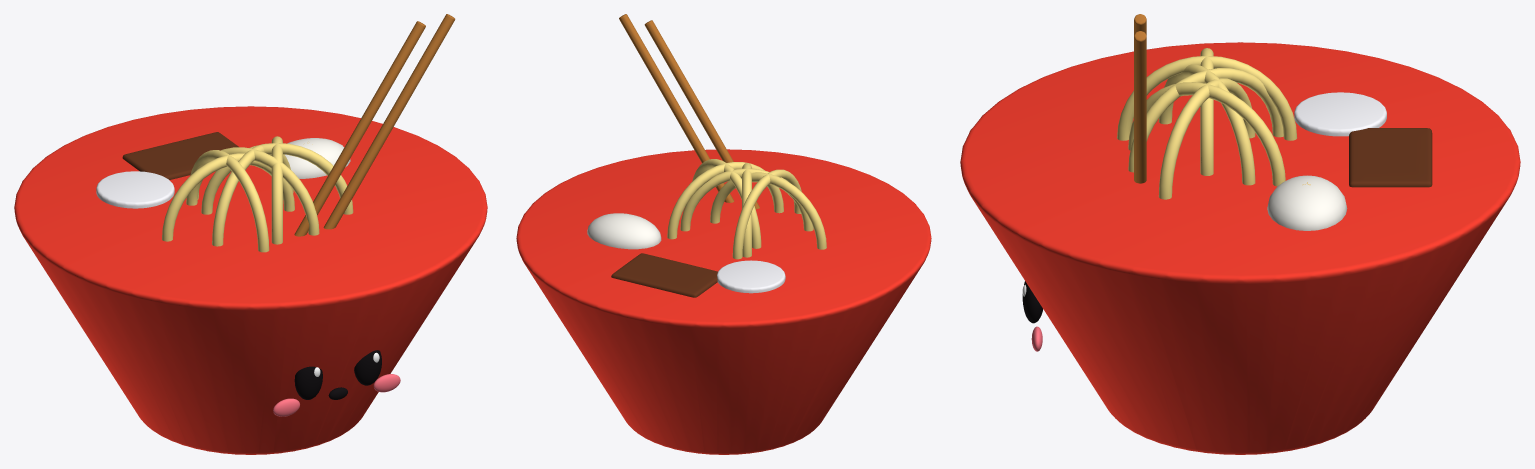
File: Ramen.glb
3 views of the same model, side by side, from view 1: azimuth 30°, elevation 25°; view 2: azimuth 150°, elevation 25°; view 3: azimuth 270°, elevation 25° (orthographic). The views are drawn at different scales.
Parts seen in each view (by area): view 1: Cone, Cylinder.003, Cube, Cylinder.002, Cylinder.001, Torus, Torus.005, Torus.004, Torus.003, Sphere, Torus.001, Torus.002 (+2 smaller); view 2: Cone, Cube, Sphere, Cylinder.001, Cylinder.003, Cylinder.002, Torus, Torus.002, Torus.003, Torus.001, Torus.005, Torus.004; view 3: Cone, Cube, Sphere, Cylinder.001, Torus.003, Torus.002, Torus.005, Torus.004, Cylinder.003, Torus.001, Torus.
Boxes of the visible parts, <box> form: Cone: <box>14,106,487,454</box>; Cylinder.003: <box>323,14,455,229</box>; Cube: <box>122,132,238,179</box>; Cylinder.002: <box>294,21,425,236</box>; Cylinder.001: <box>96,171,174,208</box>; Torus: <box>162,153,294,241</box>; Torus.005: <box>201,143,353,214</box>; Torus.004: <box>186,147,319,235</box>; Torus.003: <box>190,150,269,252</box>; Sphere: <box>285,138,350,178</box>; Torus.001: <box>212,144,293,246</box>; Torus.002: <box>271,136,282,244</box>; Cone: <box>516,149,931,454</box>; Cube: <box>611,253,717,297</box>; Sphere: <box>587,213,661,249</box>; Cylinder.001: <box>717,260,785,293</box>; Cylinder.003: <box>619,14,734,202</box>; Cylinder.002: <box>644,20,759,209</box>; Torus: <box>710,172,826,249</box>; Torus.002: <box>667,162,783,239</box>; Torus.003: <box>732,169,801,259</box>; Torus.001: <box>680,168,813,231</box>; Torus.005: <box>692,159,761,248</box>; Torus.004: <box>742,163,751,257</box>; Cone: <box>960,42,1520,454</box>; Cube: <box>1349,128,1432,187</box>; Sphere: <box>1267,175,1347,230</box>; Cylinder.001: <box>1294,92,1386,136</box>; Torus.003: <box>1117,56,1297,140</box>; Torus.002: <box>1128,82,1285,186</box>; Torus.005: <box>1158,78,1255,199</box>; Torus.004: <box>1128,68,1283,172</box>; Cylinder.003: <box>1134,31,1146,183</box>; Torus.001: <box>1158,64,1255,185</box>; Torus: <box>1200,48,1213,175</box>.
Size of the model in its own units: 1.68 by 1.52 by 1.68.
